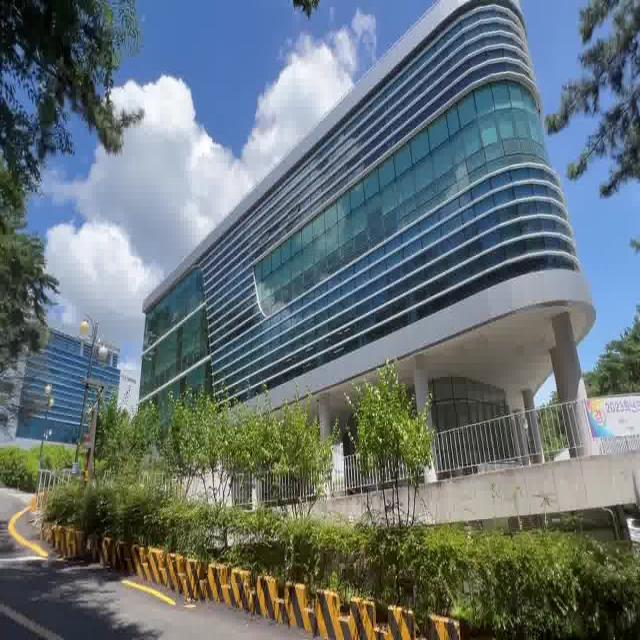building: (163, 7, 579, 396)
